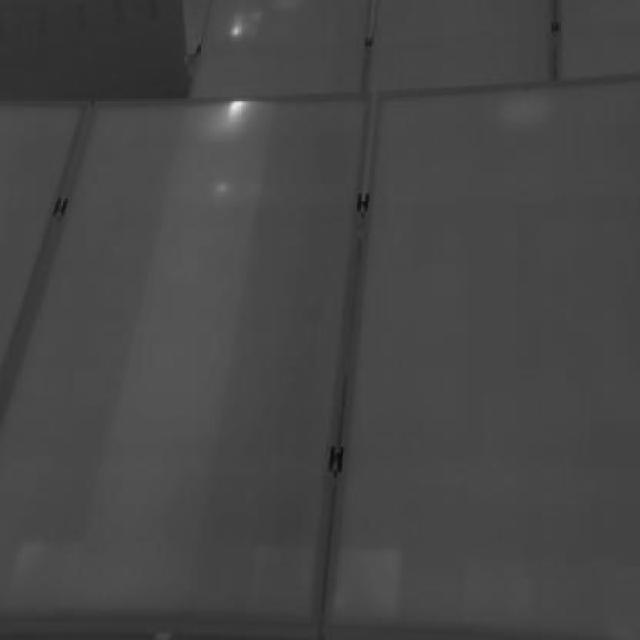hotspot: (219, 96, 246, 129), (230, 14, 261, 40), (219, 182, 233, 195)
